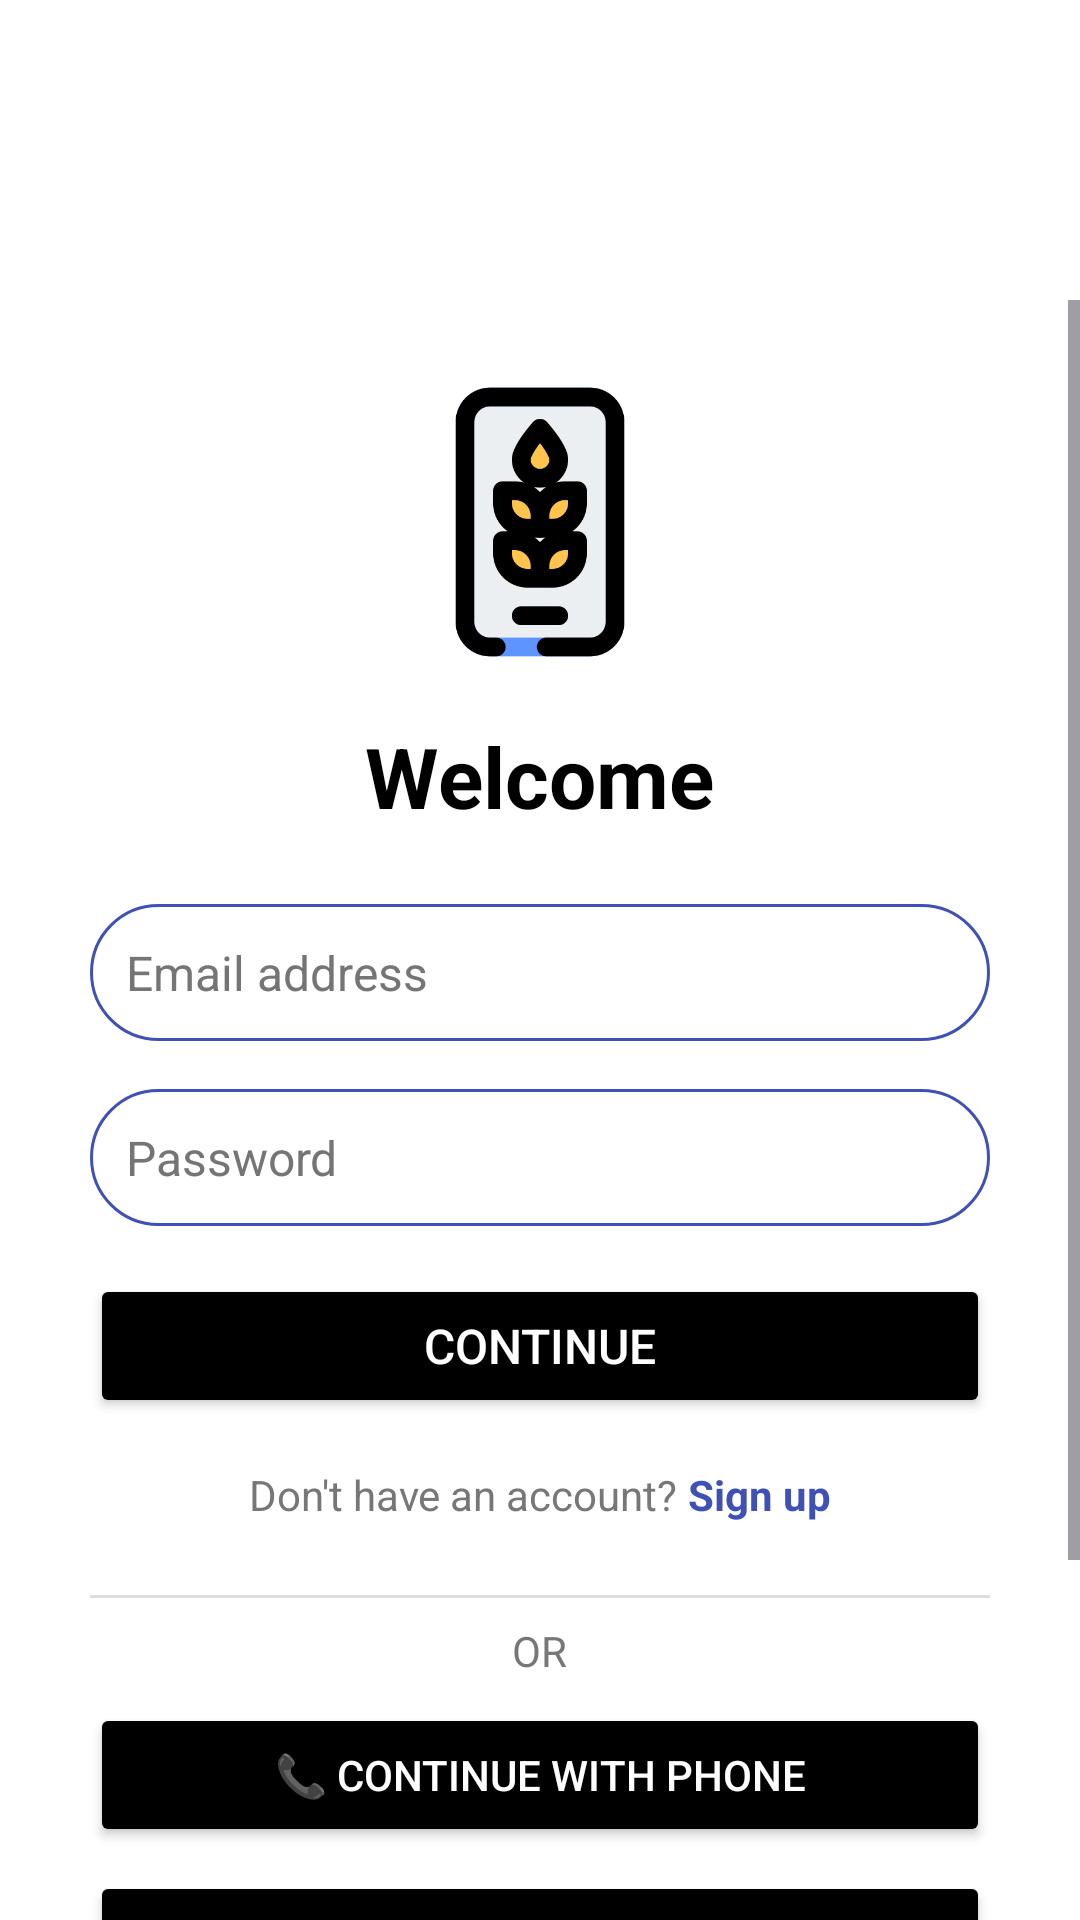

Icon click points for this 1080 x 1920 phone screenshot, format point (x, y):
App Icon: point (540, 522)
